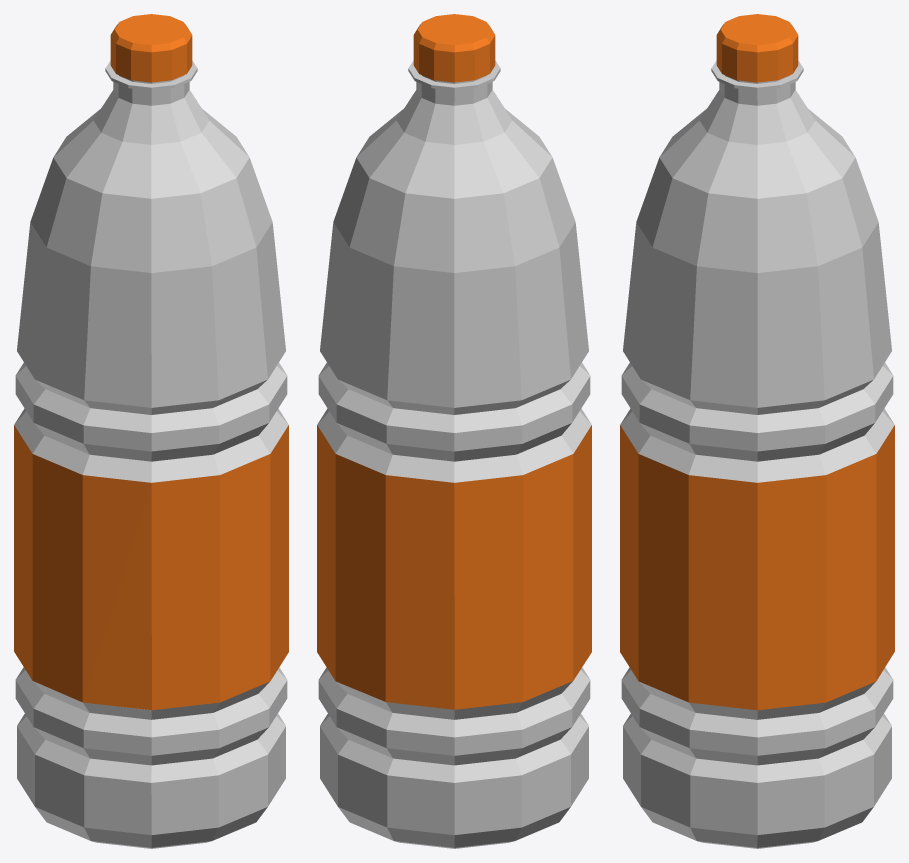
The model's file is sunkist.glb.
3 renders of one model, left to right at view 1: azimuth 30°, elevation 25°; view 2: azimuth 150°, elevation 25°; view 3: azimuth 270°, elevation 25°, orthographic.
Parts seen in each view (by area): view 1: group1013053533; view 2: group1013053533; view 3: group1013053533.
Part boxes in pixels (box(x1,y1,x2,y2)): group1013053533: box(14, 14, 288, 848); group1013053533: box(317, 14, 591, 848); group1013053533: box(620, 14, 894, 848).
Size of the model in its own units: 2.01 by 6.25 by 2.01.
